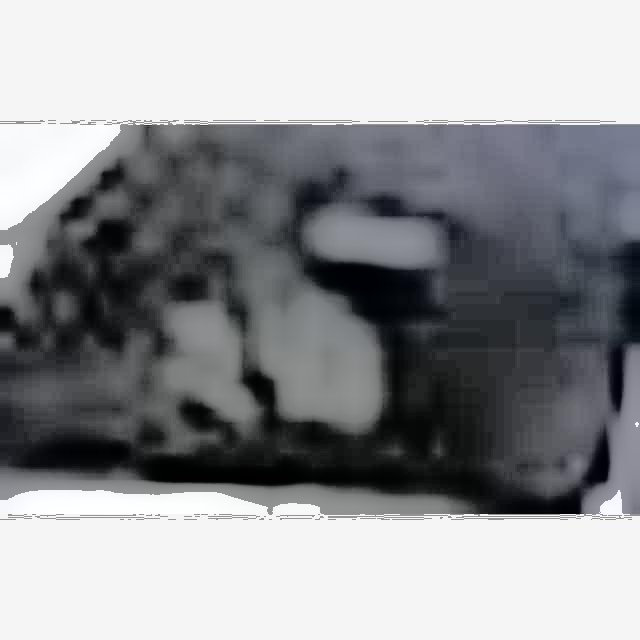pakai: (139, 236, 390, 431)
